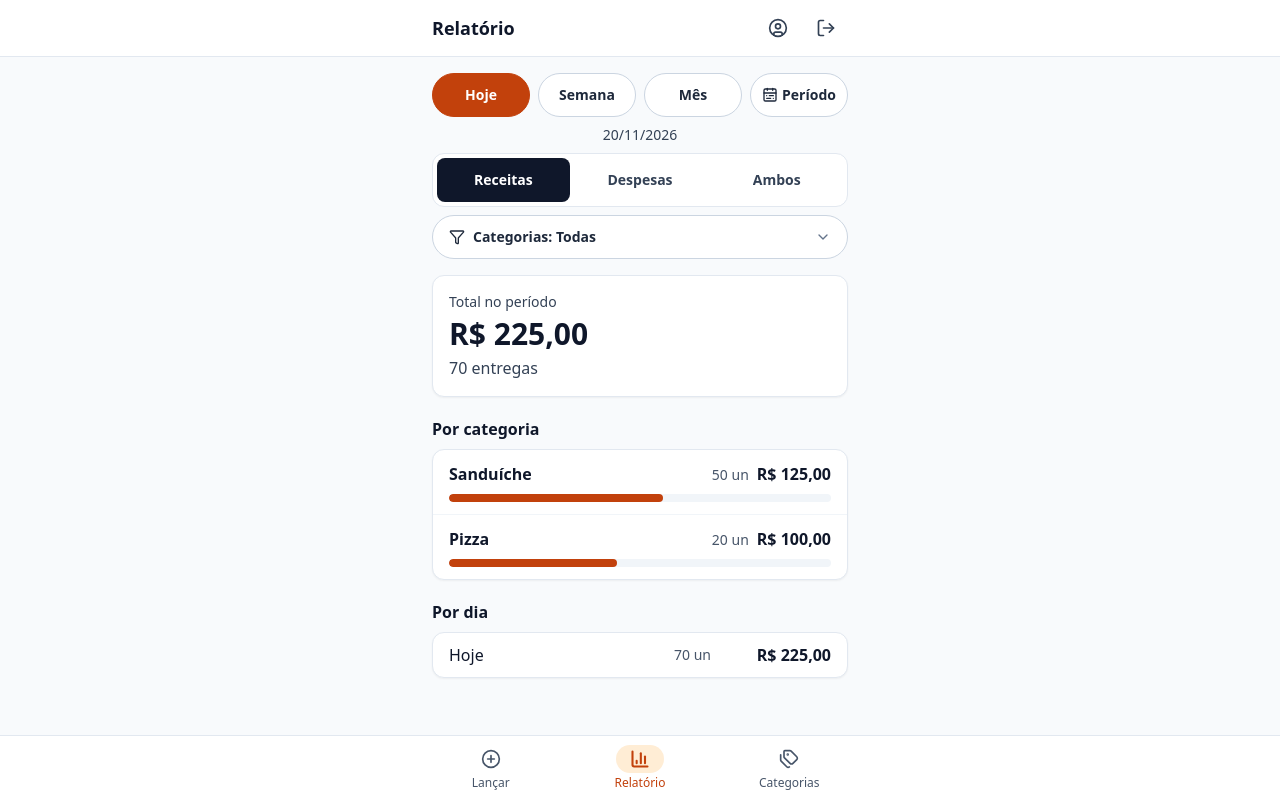
it: RelatorioPage › filtro por categorias › lista ativas primeiro e inativas com o selo, todas marcadas
expect the element "Período" is shown: met, box [432,73,848,117]
Click the button "Categorias: Todas": (534, 236) [432,215,848,259]
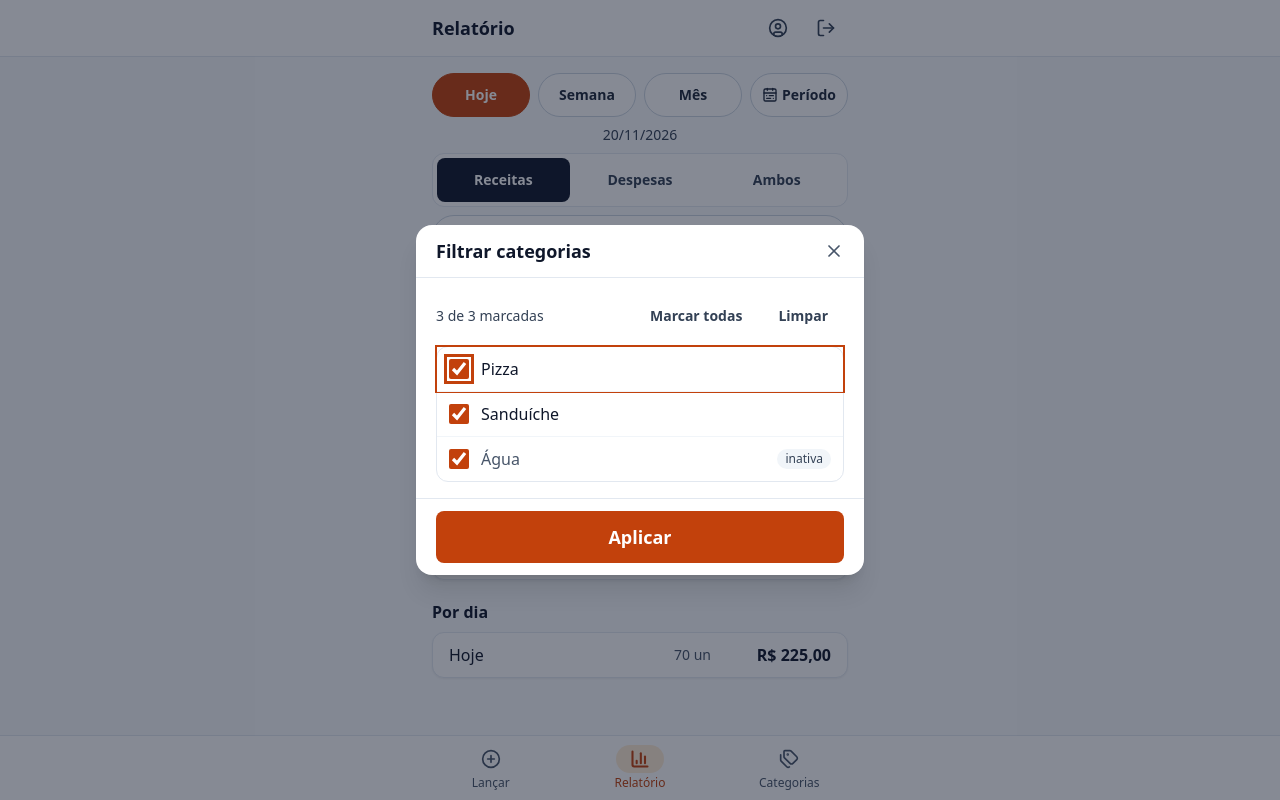
expect the checkbox labelled "Pizza" is checked: met, box [449,359,469,379]
expect the checkbox labelled "Sanduíche" is checked: met, box [449,404,469,424]
expect the checkbox labelled "Água inativa" is checked: met, box [449,449,469,469]
